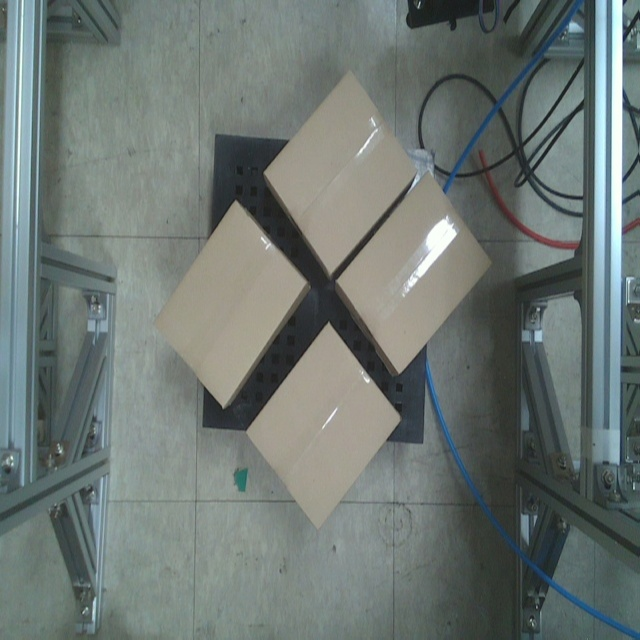box: (245, 321, 403, 531), (336, 169, 494, 376), (153, 199, 309, 408), (263, 70, 419, 277)
